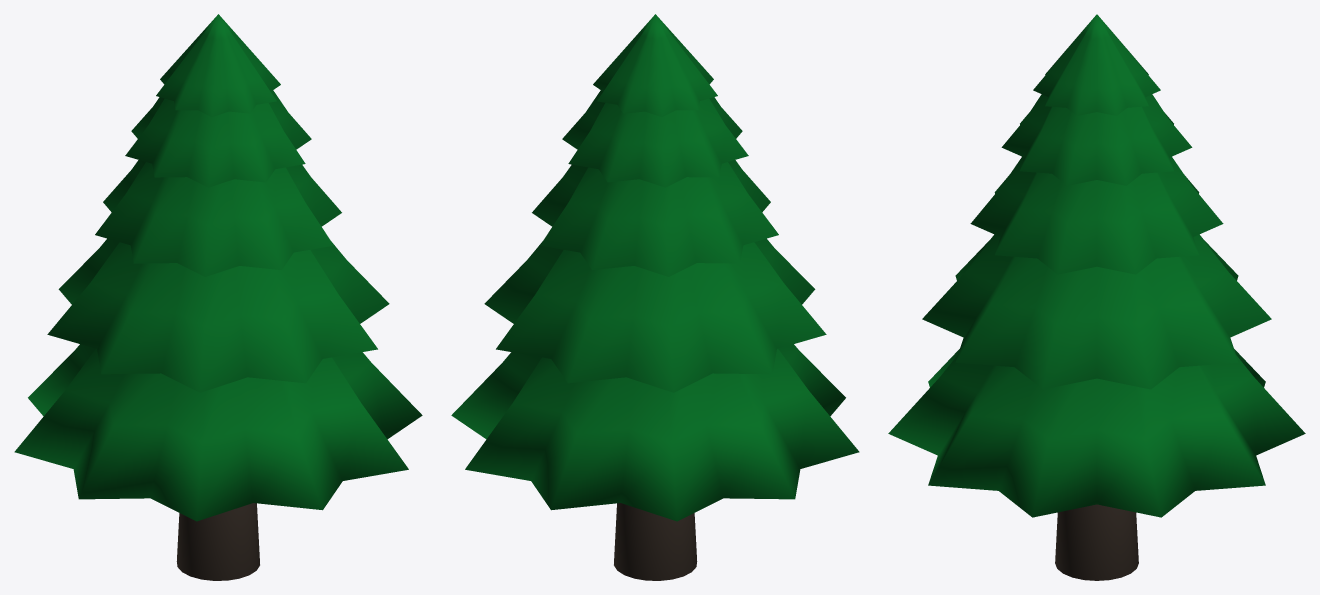
The model's file is Pine5.fbx.
The picture shows the model from 3 angles, left to right: view 1: azimuth 30°, elevation 25°; view 2: azimuth 150°, elevation 25°; view 3: azimuth 270°, elevation 25°; orthographic projection.
Parts seen in each view (by area): view 1: Pine5; view 2: Pine5; view 3: Pine5.
Boxes of the visible parts, x1,y1,x2,y2 form: Pine5: (14, 14, 422, 580); Pine5: (451, 14, 859, 580); Pine5: (888, 14, 1305, 580).
Bounding box in the file's own units: 9.43 × 14.4 × 9.92.
